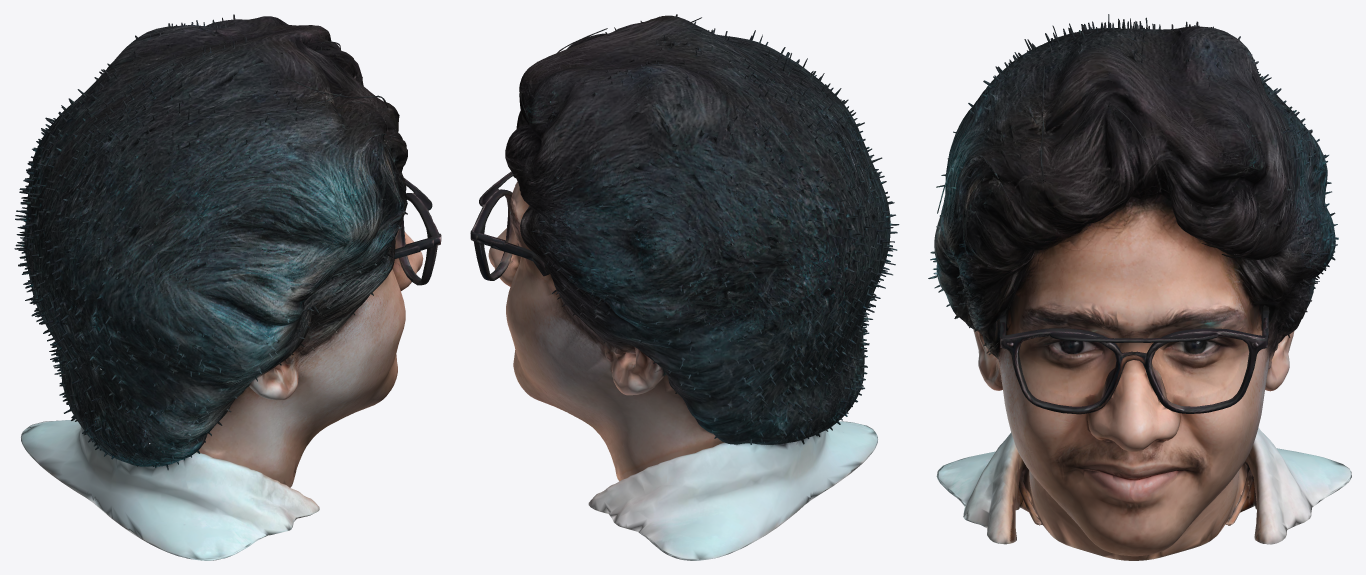
Rendered from head.glb.
3 views of the same model, side by side, from view 1: azimuth 30°, elevation 25°; view 2: azimuth 150°, elevation 25°; view 3: azimuth 270°, elevation 25° (orthographic). The views are drawn at different scales.
Parts seen in each view (by area): view 1: tripo_node_85f53ac3-e8f5-48d0-aa16-6d53970c0f74; view 2: tripo_node_85f53ac3-e8f5-48d0-aa16-6d53970c0f74; view 3: tripo_node_85f53ac3-e8f5-48d0-aa16-6d53970c0f74.
Part boxes in pixels (left/top/right/bottom): tripo_node_85f53ac3-e8f5-48d0-aa16-6d53970c0f74: left=14, top=14, right=441, bottom=560; tripo_node_85f53ac3-e8f5-48d0-aa16-6d53970c0f74: left=470, top=14, right=899, bottom=560; tripo_node_85f53ac3-e8f5-48d0-aa16-6d53970c0f74: left=928, top=14, right=1351, bottom=560.
Bounding box in the file's own units: 0.9071 × 0.9674 × 0.7609.
1 material, 1 textured.
